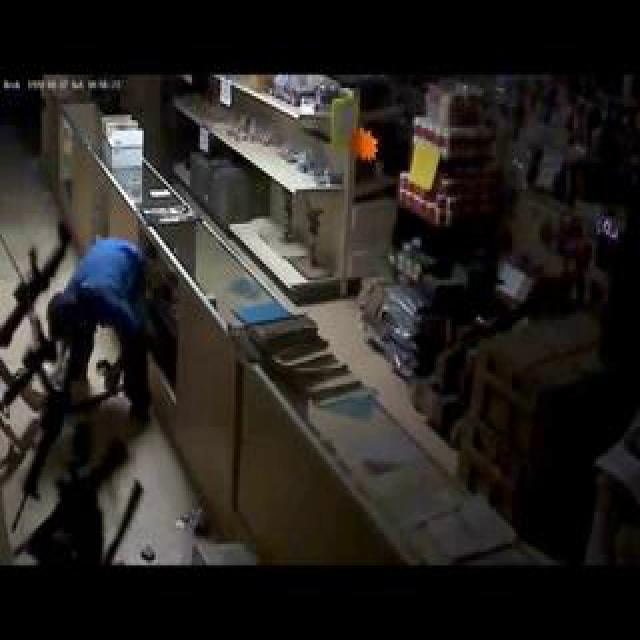burglary: (43, 56, 249, 525)
